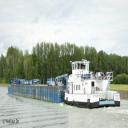tugboat: (65, 56, 123, 111)
